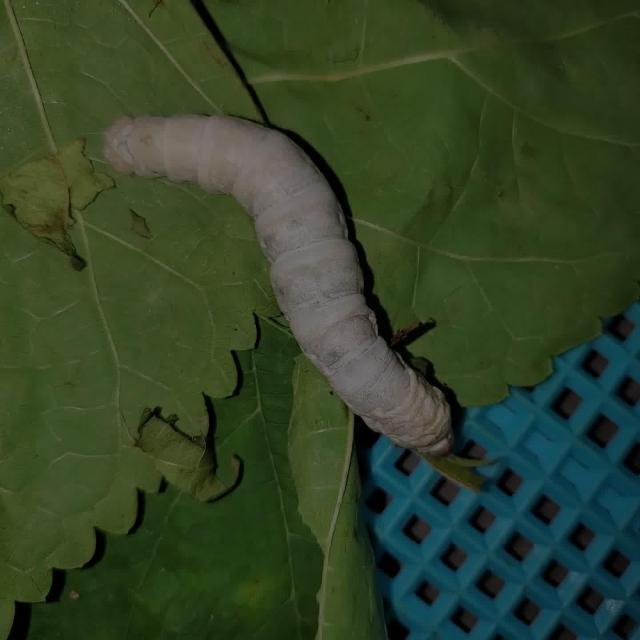Grasserie: (97, 84, 463, 484)
